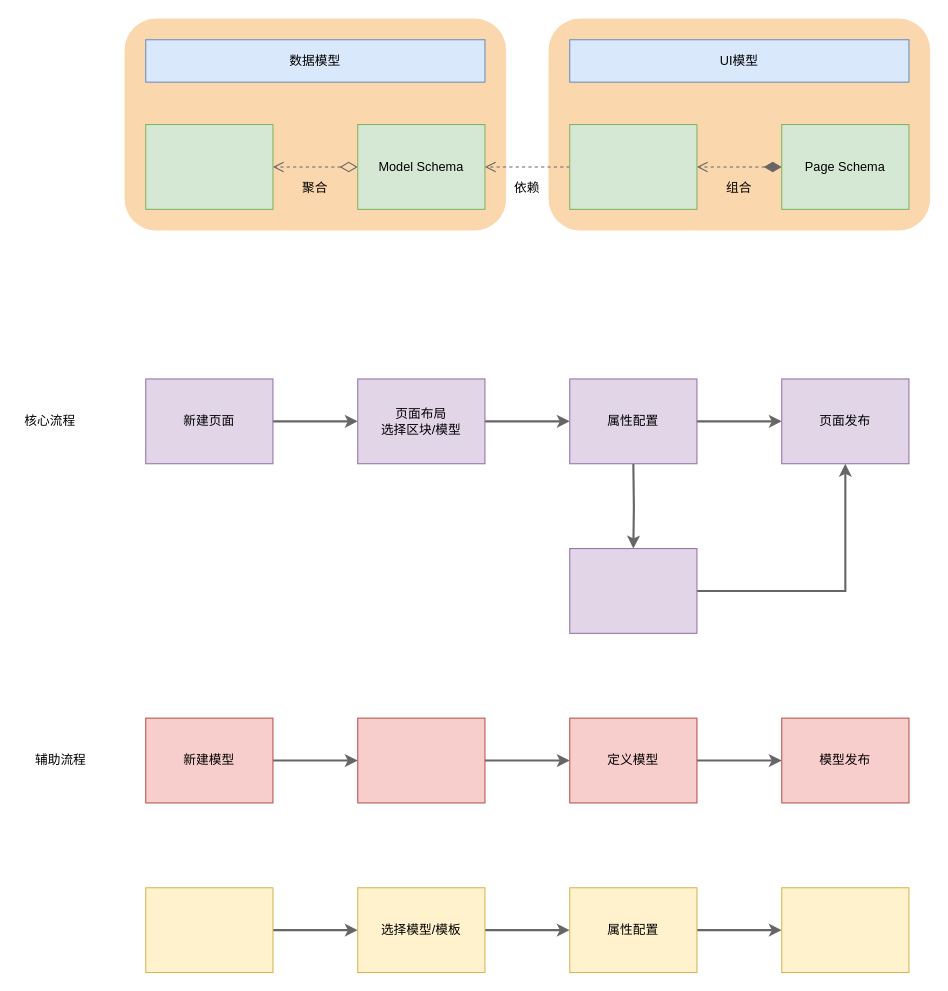
The diagram is 948 pixels wide and 991 high, and some of its shapes have lost their labels. Each missing label, with the centre of its shape:
Block Schema: [633,166]
Data Schema: [209,166]
区块发布: [845,930]
在线二次开发: [633,590]
定义数据: [421,760]
新建区块: [209,930]
